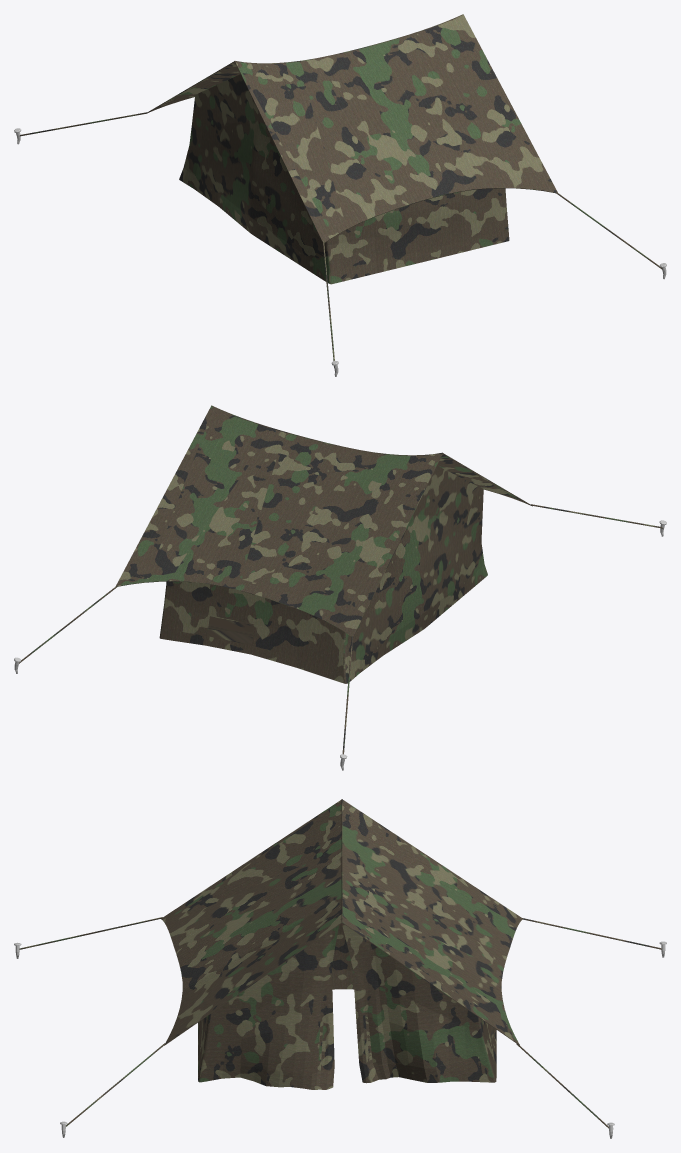
File: army tent.fbx
3 renders of one model, top to bottom at view 1: azimuth 30°, elevation 25°; view 2: azimuth 150°, elevation 25°; view 3: azimuth 270°, elevation 25°, orthographic.
Visible parts, largest first — view 1: tent1; view 2: tent1; view 3: tent1.
Part boxes in pixels (x1=…): tent1: x1=14, y1=14, x2=666, y2=376; tent1: x1=14, y1=405, x2=666, y2=770; tent1: x1=14, y1=799, x2=666, y2=1138.
Bounding box in the file's own units: 1361 × 699 × 2112.
